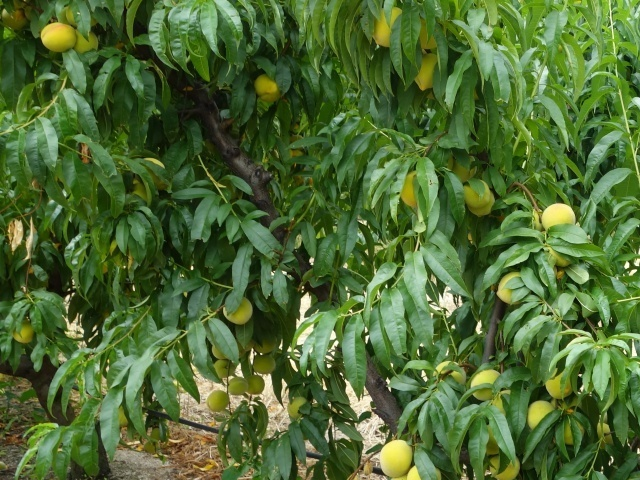peach: (368, 1, 406, 56), (539, 198, 582, 238), (376, 434, 414, 479), (493, 269, 532, 310), (468, 364, 506, 403), (37, 20, 78, 56), (413, 48, 443, 95), (542, 364, 577, 404), (218, 295, 257, 328), (431, 358, 468, 392), (67, 25, 102, 59), (459, 175, 493, 210), (396, 170, 424, 212), (524, 396, 558, 430), (6, 314, 38, 348), (250, 70, 280, 104), (483, 380, 513, 414), (488, 450, 523, 479), (559, 415, 586, 448), (251, 351, 281, 379), (251, 329, 278, 357), (285, 393, 312, 421), (403, 461, 445, 479), (465, 191, 494, 217), (202, 390, 232, 414), (242, 371, 267, 396), (213, 355, 236, 380), (226, 376, 251, 395)
